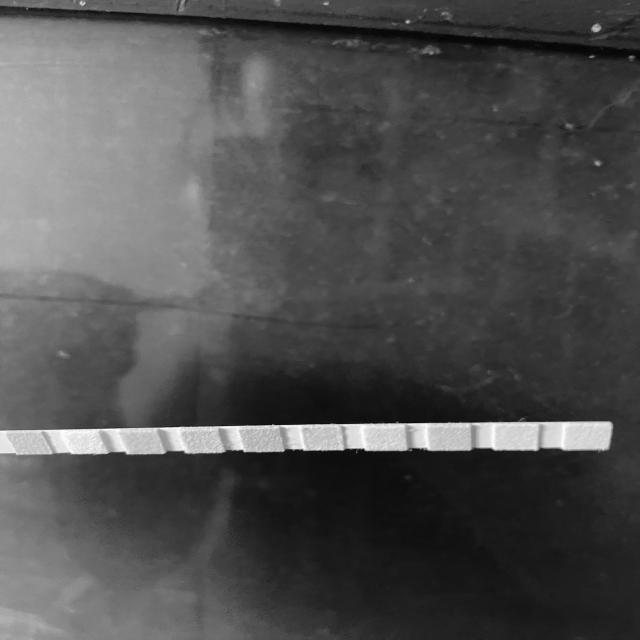Bilirubin: (71, 431, 98, 454)
Blood: (245, 430, 279, 452)
Glucose: (18, 433, 42, 454)
Ketone: (128, 431, 157, 454)
Leukocytes: (566, 426, 609, 450)
Nitrite: (496, 426, 536, 450)
Protein: (366, 427, 405, 450)
SpGravity: (187, 431, 219, 453)
Urobilinogen: (430, 426, 470, 451)
background: (0, 0, 640, 640)
pH: (306, 428, 342, 449)
strip: (2, 422, 611, 452)
